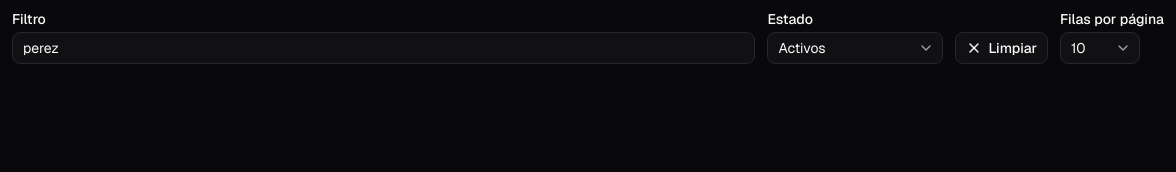
it: CustomerFilters — customer status (R20) › empties the search box, so the screen matches the list it produced
Click the button "Limpiar": (1002,48) [956, 32, 1048, 64]
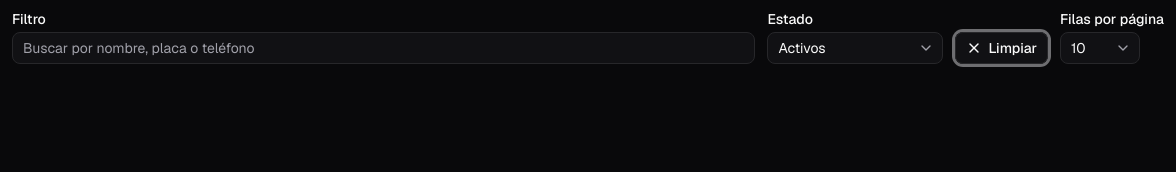
Expected: the field labelled "Filtro" is empty, [12, 32, 756, 64]
